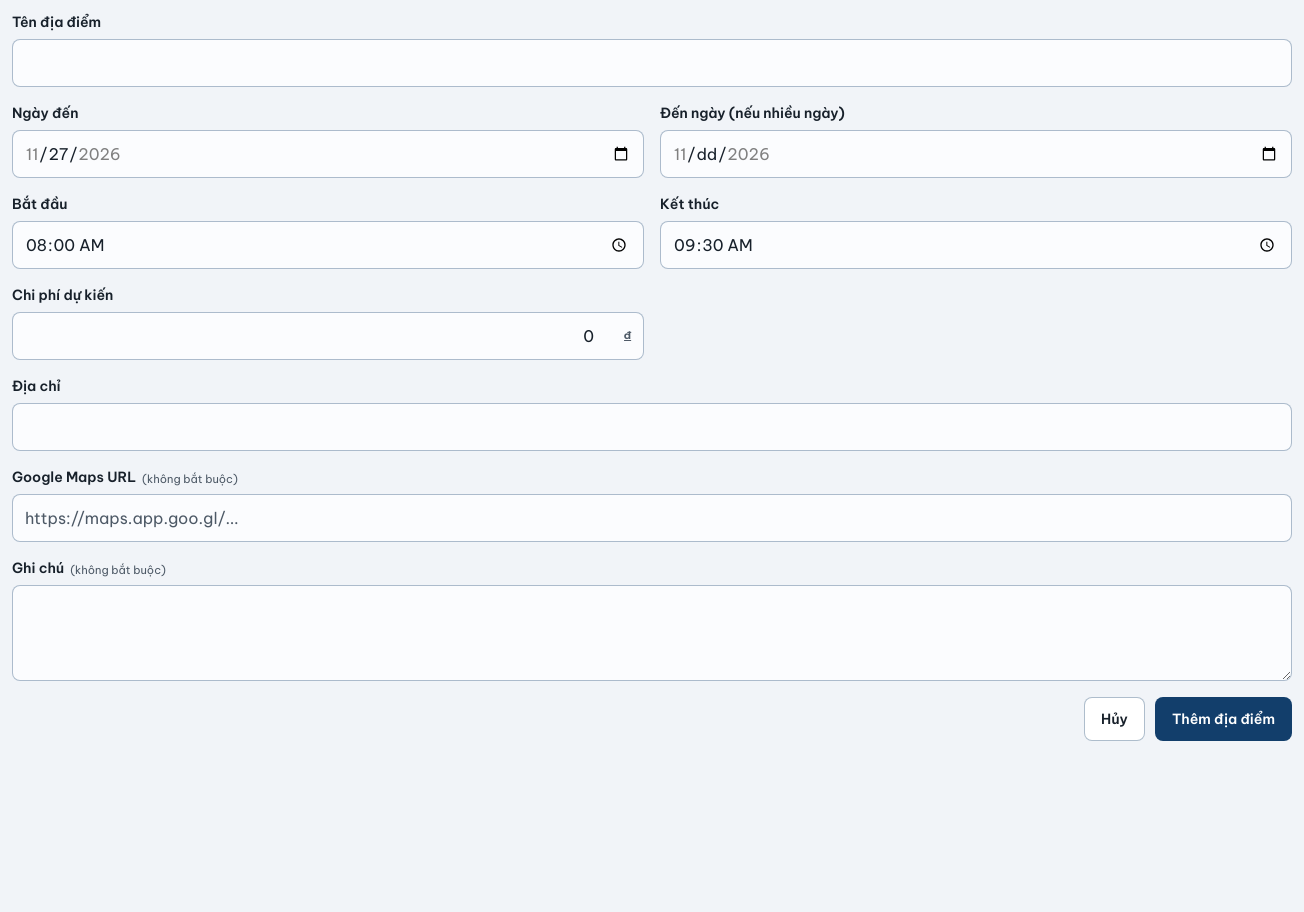
Test: ItineraryForm overlap warning › names the dates of an overlapping multi-day activity
This screenshot has width=1304, height=912.
Step 1. Type "2026-11-28" into the date field labelled "Ngày đến" → (328, 154), box [12, 130, 644, 178]
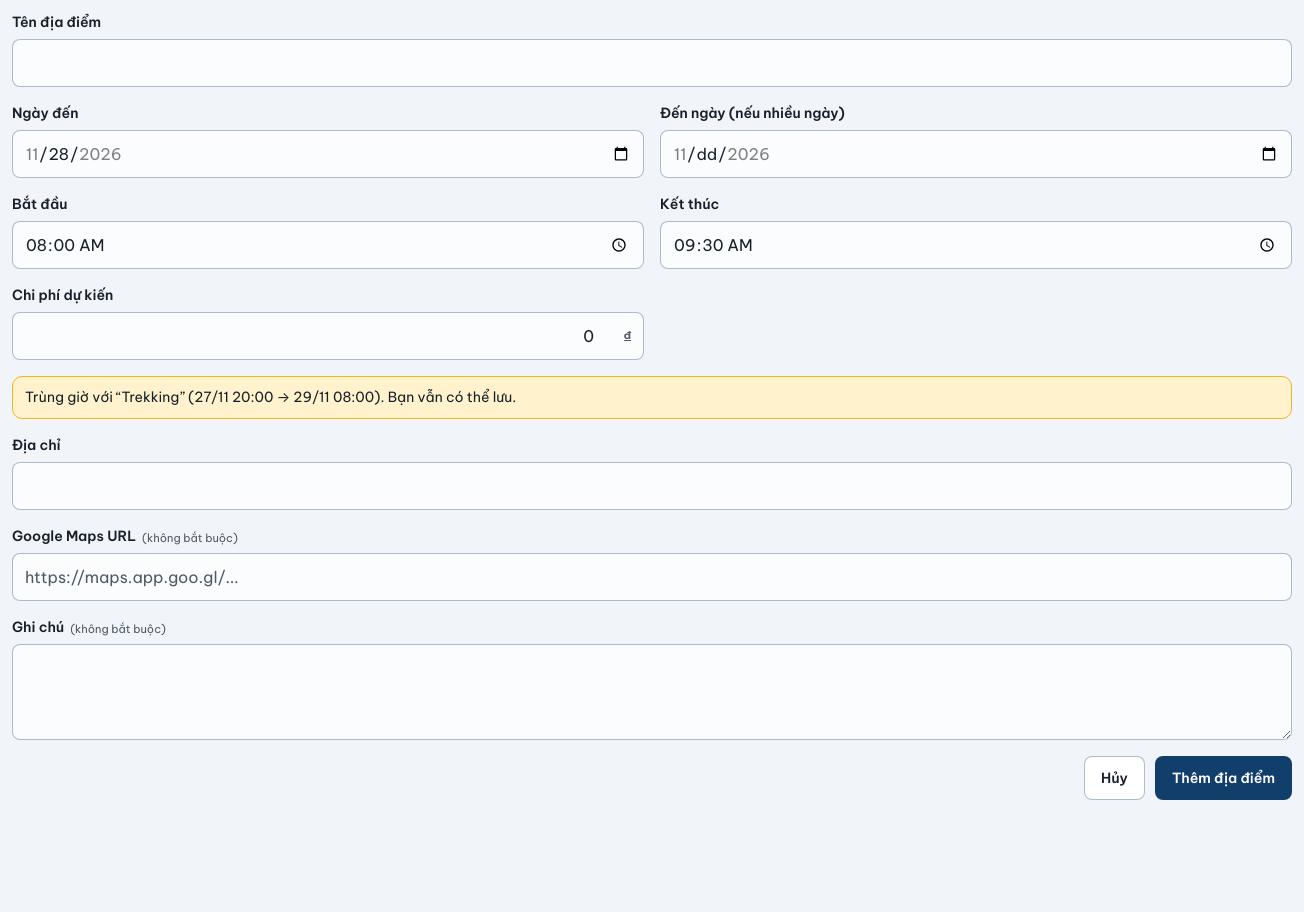
Check: the message shows "Trùng giờ với “Trekking” (27/11 20:00 → 29/11 08:00)", box [12, 376, 1292, 419]
